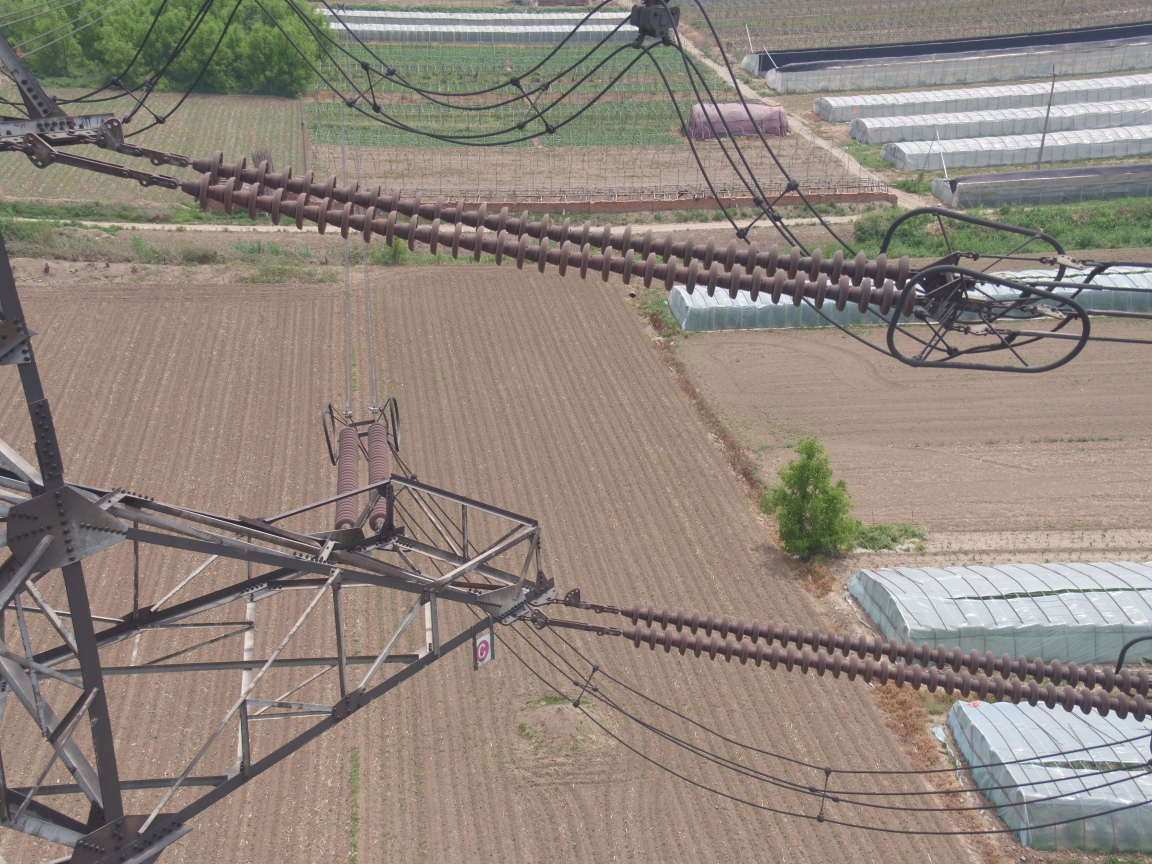insulator: (135, 144, 940, 323), (594, 596, 1152, 724)
